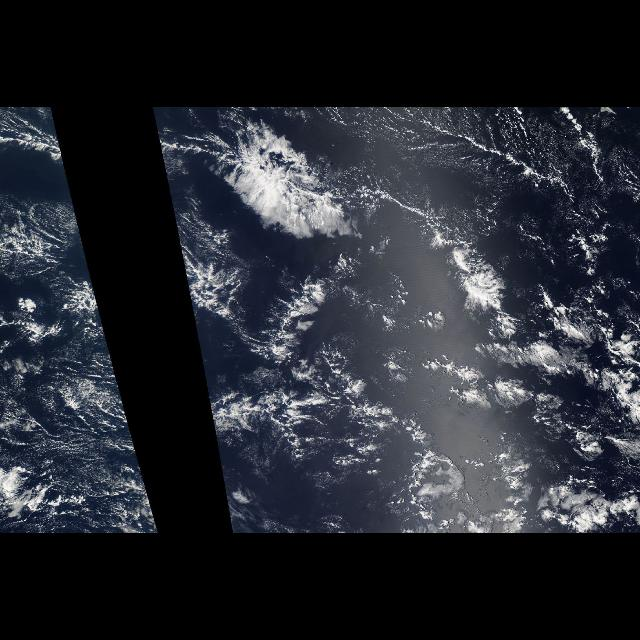Fish: (173, 108, 632, 462)
